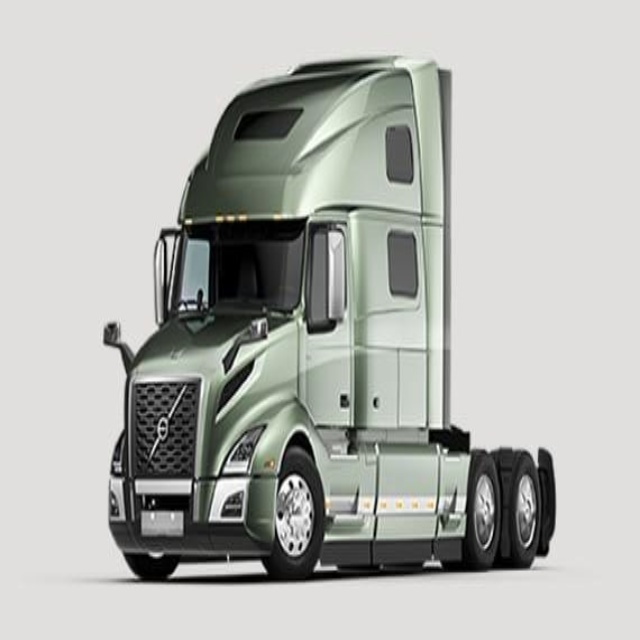Truck: (101, 52, 556, 582)
